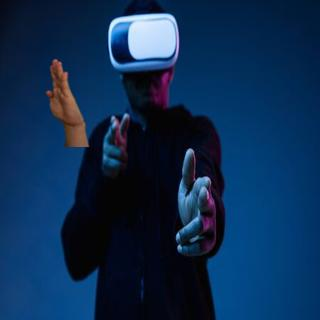RIGHT: (42, 56, 86, 128)
